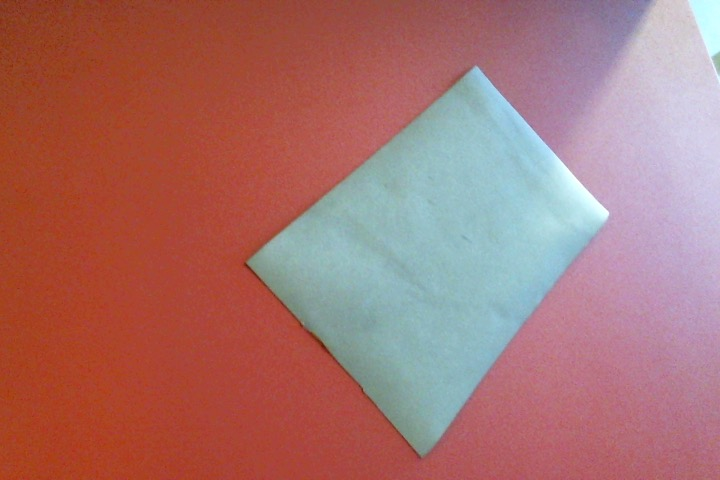Tape: (243, 63, 610, 459)
